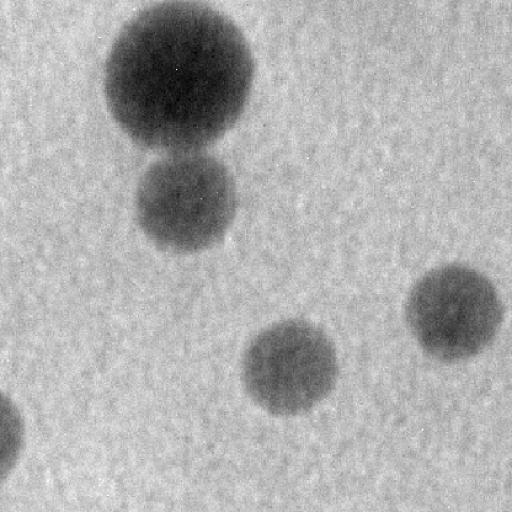Nanoparticles: (100, 0, 258, 156), (242, 313, 343, 425), (128, 156, 242, 254), (402, 262, 506, 364)
